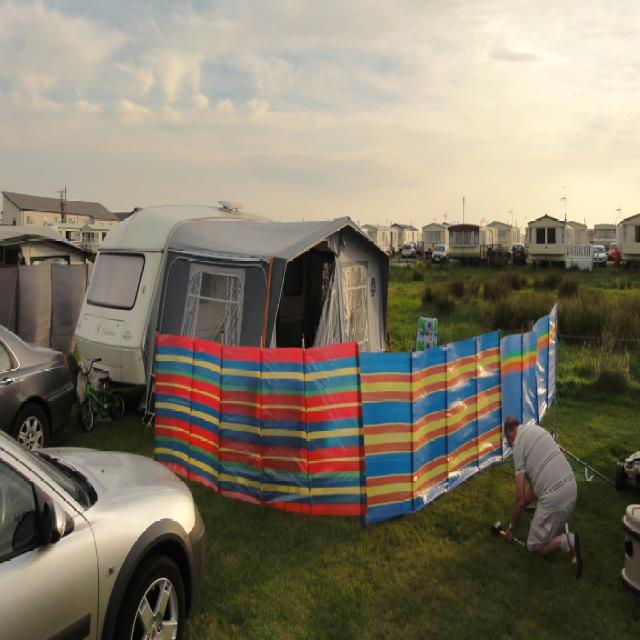car: (510, 239, 525, 265), (430, 241, 446, 262), (402, 239, 417, 257)
